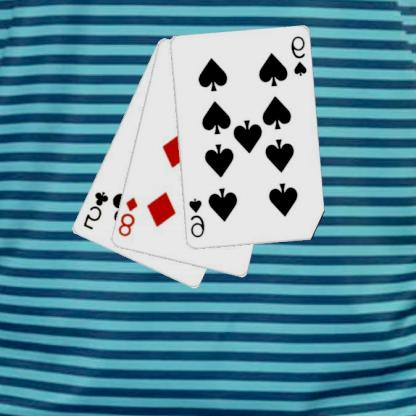5C: (82, 189, 112, 231)
8D: (116, 194, 140, 238)
9S: (187, 196, 208, 240), (290, 33, 310, 78)
